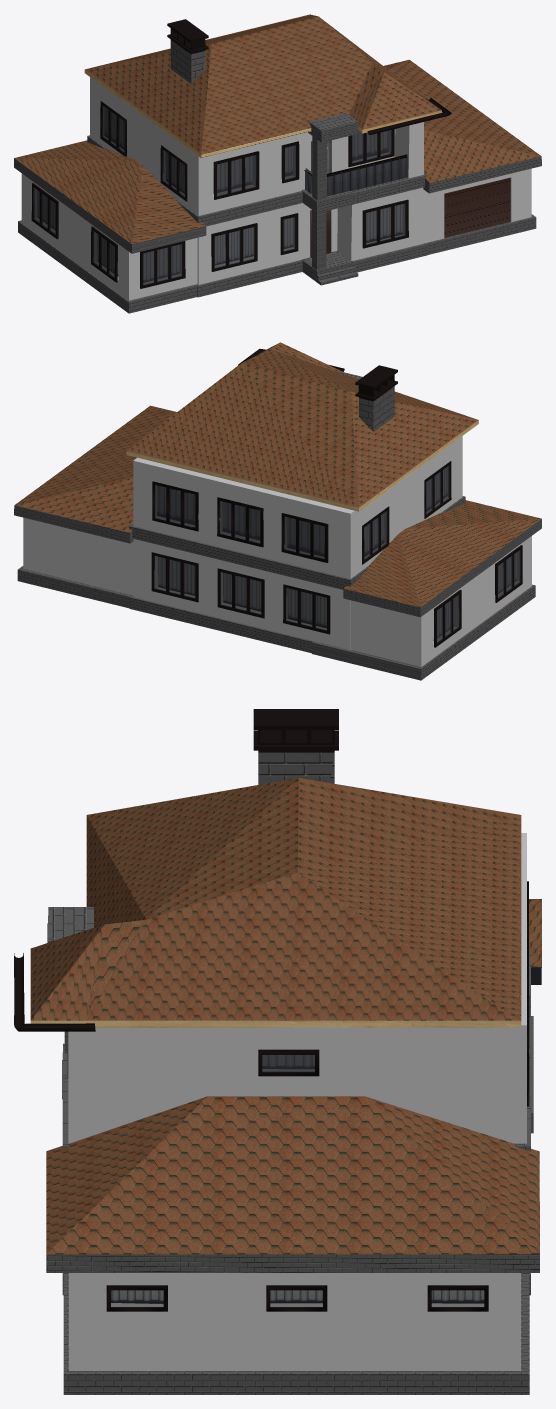
Rendered from home.obj.
3 renders of one model, top to bottom at view 1: azimuth 30°, elevation 25°; view 2: azimuth 150°, elevation 25°; view 3: azimuth 270°, elevation 25°, orthographic. The views are drawn at different scales.
Parts seen in each view (by area): view 1: Roof.001, L-2, Hall, L-1, Garage; view 2: Roof.001, L-2, Hall, Garage, L-1; view 3: Garage, Roof.001, L-2, Hall.
Part boxes in pixels (left/top/right/bottom): Roof.001: left=84, top=14, right=441, bottom=158; L-2: left=87, top=77, right=427, bottom=226; Hall: left=14, top=140, right=229, bottom=313; L-1: left=197, top=187, right=427, bottom=297; Garage: left=383, top=59, right=541, bottom=254; Roof.001: left=126, top=342, right=478, bottom=511; L-2: left=129, top=371, right=465, bottom=589; Hall: left=312, top=500, right=541, bottom=680; Garage: left=14, top=405, right=176, bottom=608; L-1: left=129, top=539, right=352, bottom=653; Garage: left=46, top=1096, right=539, bottom=1394; Roof.001: left=30, top=709, right=521, bottom=1027; L-2: left=47, top=833, right=530, bottom=1151; Hall: left=529, top=899, right=541, bottom=1133.
Size of the model in its own units: 4.3 by 2.32 by 2.66.
